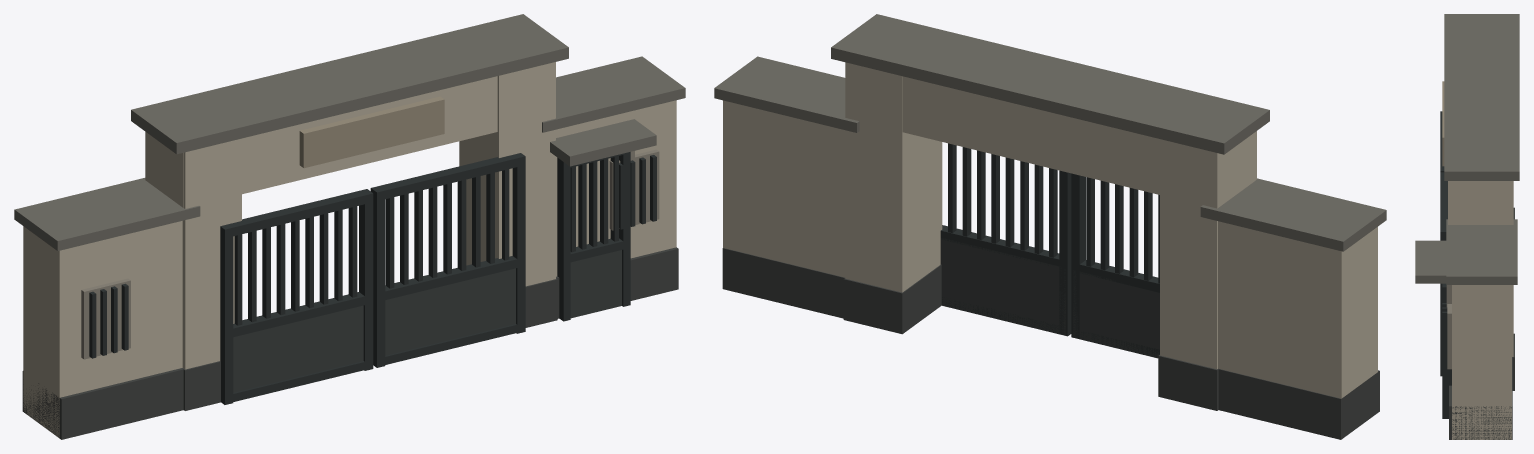
File: destination-gate-v2.glb
3 renders of one model, left to right at view 1: azimuth 30°, elevation 25°; view 2: azimuth 150°, elevation 25°; view 3: azimuth 270°, elevation 25°, orthographic. The views are drawn at different scales.
Visible parts, largest first — view 1: header_cap, left_wing, lower_panel (×2), right_pier, header, left_pier, left_cap, left_base, right_wing, right_cap, blank_sign, top_rail (×2) (+26 smaller); view 2: left_wing, header_cap, right_wing, right_pier, header, lower_panel (×2), left_pier, left_cap, left_base, right_cap, right_base, right_pier_base (+13 smaller); view 3: header_cap, right_wing, right_cap, header, right_base, door_awning, top_rail (×2), door_frame_right, side_window_recess_2, side_window_2_bar_4, right_pier, right_frame (+2 smaller).
Part boxes in pixels (x1,y1,x2,y2): header_cap: (131,14,568,154); left_wing: (23,221,182,438); lower_panel (×2): (233,268,515,392); right_pier: (459,62,555,286); header: (145,76,497,207); left_pier: (182,138,241,369); left_cap: (14,178,200,250); left_base: (22,368,183,439); right_wing: (556,100,676,276); right_cap: (542,56,685,132); blank_sign: (299,96,444,168); top_rail (×2): (220,153,525,238); left_wing: (1218,221,1377,398); header_cap: (831,14,1269,154); right_wing: (723,100,845,277); right_pier: (845,62,942,292); header: (902,76,1255,208); lower_panel (×2): (940,238,1159,358); left_pier: (1160,131,1256,369); left_cap: (1200,178,1386,251); left_base: (1218,368,1379,439); right_cap: (714,56,859,132); right_base: (722,248,844,318); right_pier_base: (843,264,941,334); header_cap: (1444,14,1519,180); right_wing: (1452,285,1511,439); right_cap: (1446,219,1517,284); header: (1450,181,1513,224); right_base: (1449,357,1512,439); door_awning: (1415,240,1446,283); top_rail (×2): (1440,111,1447,239); door_frame_right: (1442,287,1451,418); side_window_recess_2: (1447,304,1451,369); side_window_2_bar_4: (1442,311,1447,365); right_pier: (1448,181,1513,356); right_frame: (1440,233,1446,376).
Bounding box in the file's own units: 10.48 × 4.33 × 1.83.
